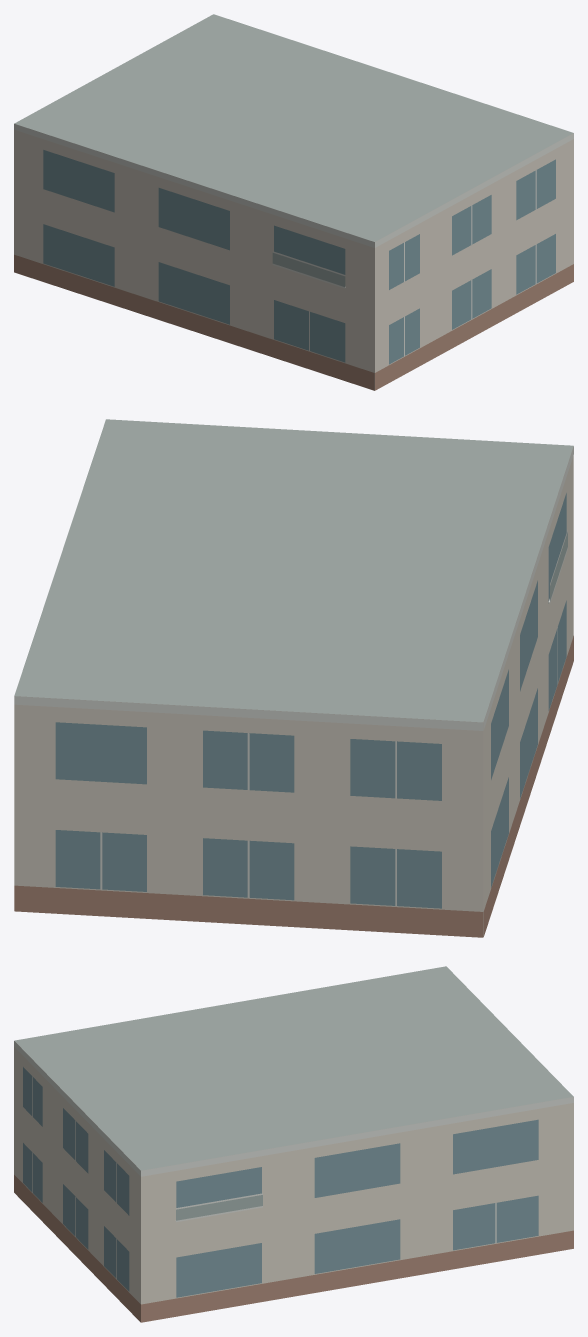
The model's file is survey-upis-32848098.glb.
3 renders of one model, top to bottom at view 1: azimuth 30°, elevation 25°; view 2: azimuth 150°, elevation 25°; view 3: azimuth 270°, elevation 25°, orthographic. The views are drawn at different scales.
Visible parts, largest first — view 1: survey-upis-32848098.tmp; view 2: survey-upis-32848098.tmp; view 3: survey-upis-32848098.tmp.
Part boxes in pixels (left/top/right/bottom): survey-upis-32848098.tmp: left=14, top=14, right=573, bottom=390; survey-upis-32848098.tmp: left=14, top=419, right=573, bottom=937; survey-upis-32848098.tmp: left=14, top=966, right=573, bottom=1322.
Size of the model in its own units: 17.62 by 6.1 by 20.38.
